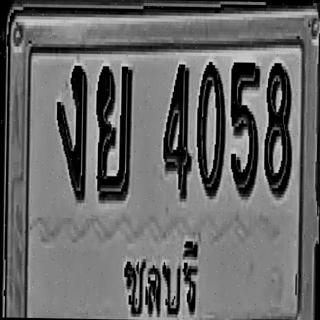A07: (54, 62, 88, 200)
A34: (94, 63, 133, 201)
N00: (195, 60, 226, 198)
N04: (162, 61, 193, 198)
N05: (229, 58, 260, 198)
N08: (263, 60, 292, 197)
P13: (117, 230, 202, 320)
